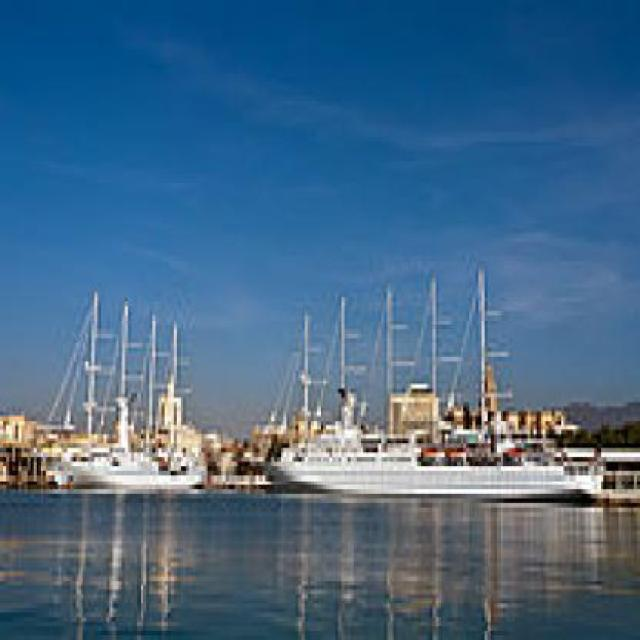cruise: (257, 256, 620, 509), (37, 275, 217, 504)
